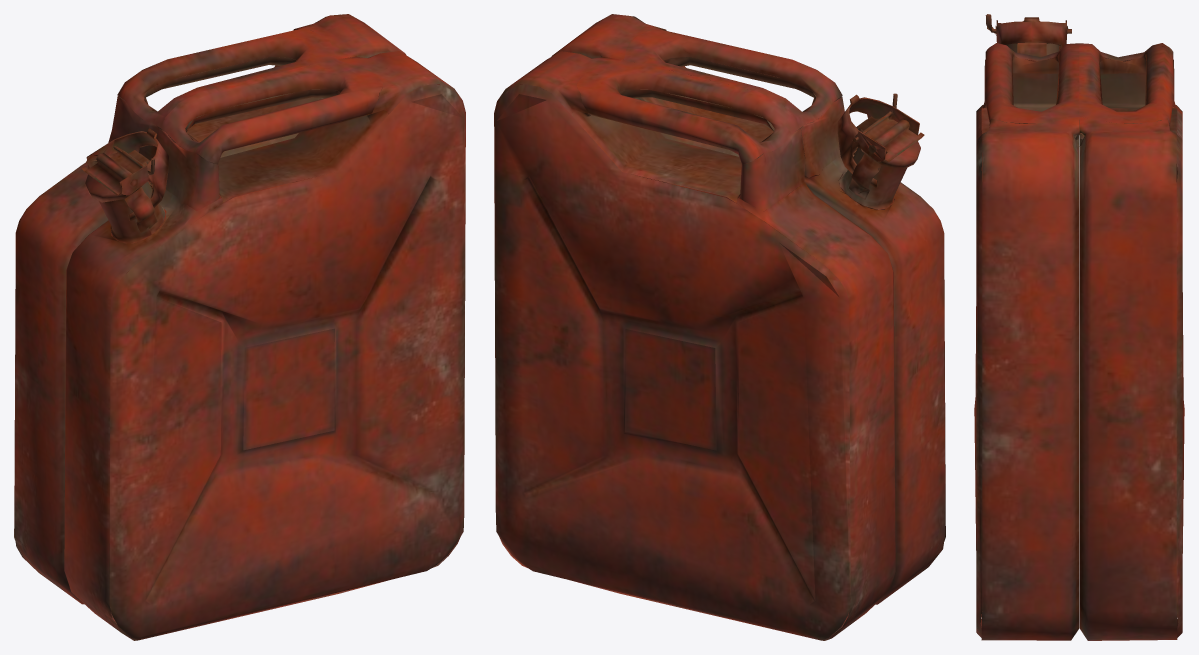
File: metal_jerrycan.gltf
3 renders of one model, left to right at view 1: azimuth 30°, elevation 25°; view 2: azimuth 150°, elevation 25°; view 3: azimuth 270°, elevation 25°, orthographic. The views are drawn at different scales.
Visible parts, largest first — view 1: metal_jerrycan; view 2: metal_jerrycan; view 3: metal_jerrycan.
Boxes of the visible parts, x1,y1,x2,y2 form: metal_jerrycan: (14,14,465,640); metal_jerrycan: (494,14,945,640); metal_jerrycan: (974,14,1184,640).
Bounding box in the file's own units: 0.3496 × 0.4546 × 0.1723.
Materials: 1 (1 with a texture image).
